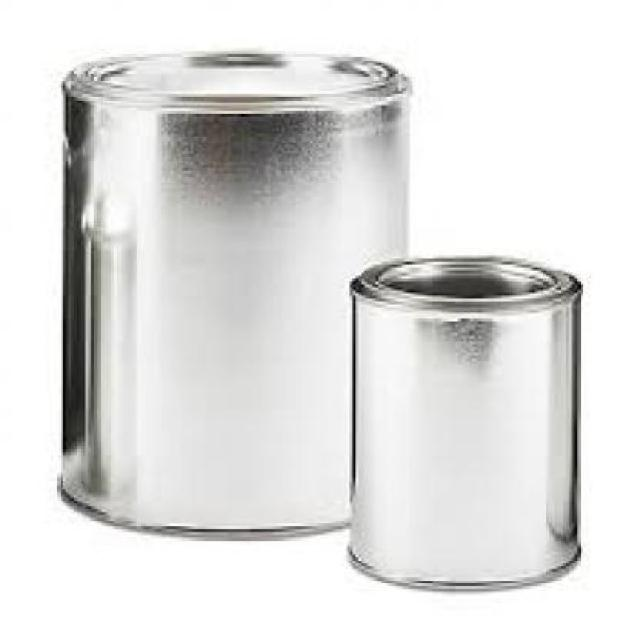METAL: (54, 49, 408, 538), (345, 253, 577, 589)
